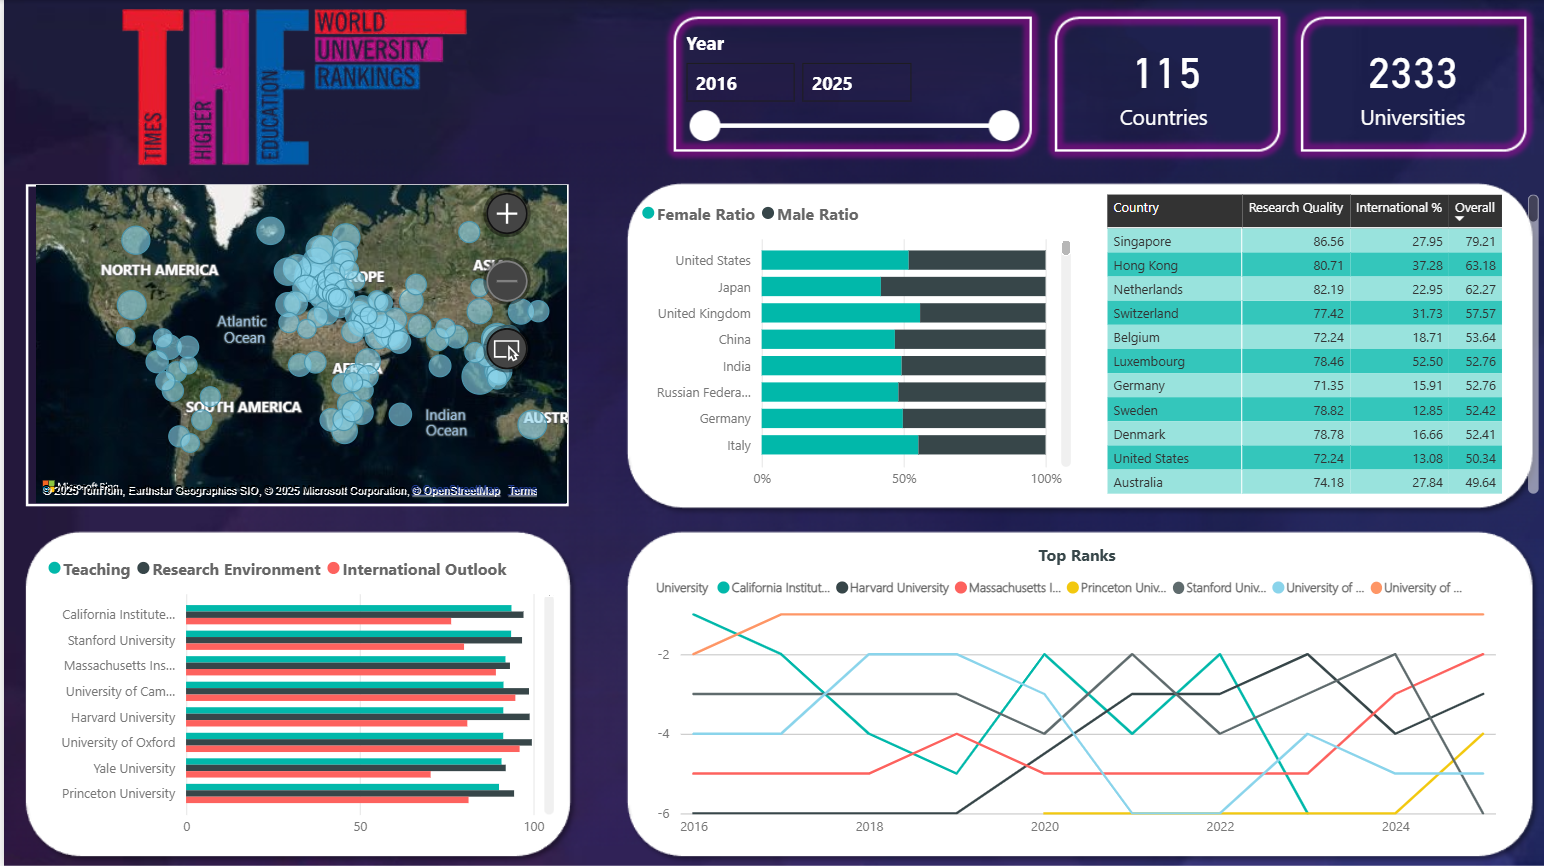

Layout of this report page (visuals, bound fields, positions):
{"tool":"powerbi","page":{"name":"Page 2","canvas":[1280,720],"ordinal":1},"visuals":[{"type":"map","fields":{"Category":["Cleaned Data.Country"],"Size":["Avg(Cleaned Data.Overall Score)"]},"box":[21.6,148.6,450.3,274.5],"z":0},{"type":"clusteredBarChart","fields":{"Category":["Cleaned Data.Name"],"Y":["Avg(Cleaned Data.Teaching)","Avg(Cleaned Data.Research Environment)","Avg(Cleaned Data.International Outlook)"]},"box":[30.6,450.3,429.9,251.8],"z":1},{"type":"card","fields":{"Values":["Count(Cleaned Data.Country)"]},"box":[889.2,21.6,149.7,95.3],"z":2},{"type":"card","fields":{"Values":["Count(Cleaned Data.Name)"]},"box":[1093.4,21.6,149.7,95.3],"z":3},{"type":"slicer","fields":{"Values":["Cleaned Data.Year"]},"box":[555.8,21.6,291.5,144],"z":4},{"type":"lineChart","title":"Top Ranks ","fields":{"Y":["top per year.Average of Rank min per Year"],"Category":["Cleaned Data.Year"],"Series":["Cleaned Data.Name"]},"box":[535.4,450.3,707.8,251.8],"z":5},{"type":"hundredPercentStackedBarChart","fields":{"Category":["Cleaned Data.Country"],"Y":["Avg(Cleaned Data.Female Ratio)","Avg(Cleaned Data.Male Ratio)"]},"box":[522.9,156.5,366.4,257.5],"z":6},{"type":"pivotTable","fields":{"Rows":["Cleaned Data.Country"],"Values":["Avg(Cleaned Data.Research Quality)","Avg(Cleaned Data.International Students)","Avg(Cleaned Data.Overall Score)"]},"box":[909.6,156.5,367.5,257.5],"z":7},{"type":"image","box":[21.6,0,438.9,148.6],"z":9}]}

Visuals, with their boxes in screenshot pixels (x1, y1, x2, y2), scaled from the page's 1280x720 canvas onto the 1544x866 screenshot:
map - Cleaned Data.Country x Avg(Cleaned Data.Overall Score): <bbox>26, 179, 569, 509</bbox>
clusteredBarChart - Cleaned Data.Name x Avg(Cleaned Data.Teaching): <bbox>37, 542, 555, 844</bbox>
card - Count(Cleaned Data.Country): <bbox>1073, 26, 1253, 141</bbox>
card - Count(Cleaned Data.Name): <bbox>1319, 26, 1499, 141</bbox>
slicer - Cleaned Data.Year: <bbox>670, 26, 1022, 199</bbox>
"Top Ranks " lineChart: <bbox>646, 542, 1500, 844</bbox>
hundredPercentStackedBarChart - Cleaned Data.Country x Avg(Cleaned Data.Female Ratio): <bbox>631, 188, 1073, 498</bbox>
pivotTable - Cleaned Data.Country x Avg(Cleaned Data.Research Quality): <bbox>1097, 188, 1541, 498</bbox>
image: <bbox>26, 0, 555, 179</bbox>
